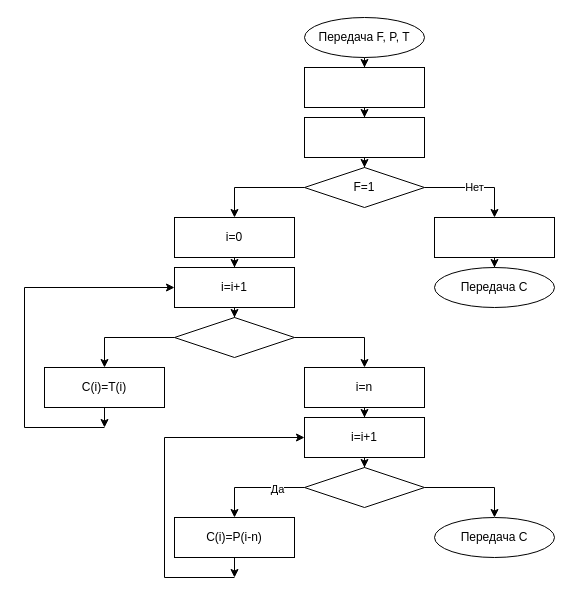
Some shapes in this 572 by 603 pixel diagram are drawn without their labels. The box of each missing label's shape, as (x1, y1, x2, y2) in pixels:
C='Условия не выполнены': (434, 216, 554, 258)
i<=m: (304, 466, 424, 508)
i<=n: (174, 316, 294, 358)
m=length(P): (304, 66, 424, 108)
n=length(T): (304, 116, 424, 158)
